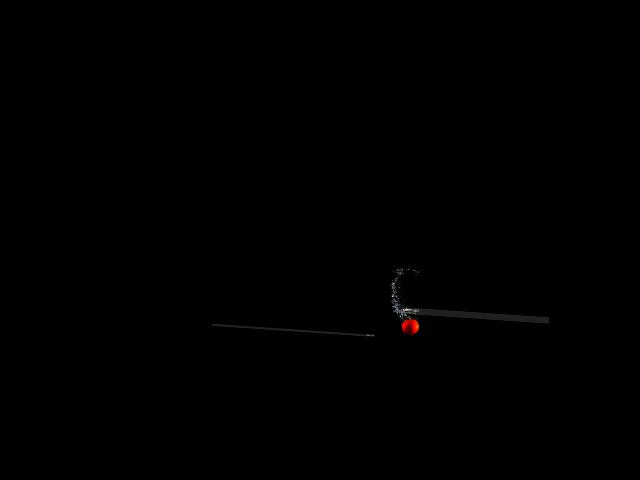tomato: (401, 318, 419, 335)
